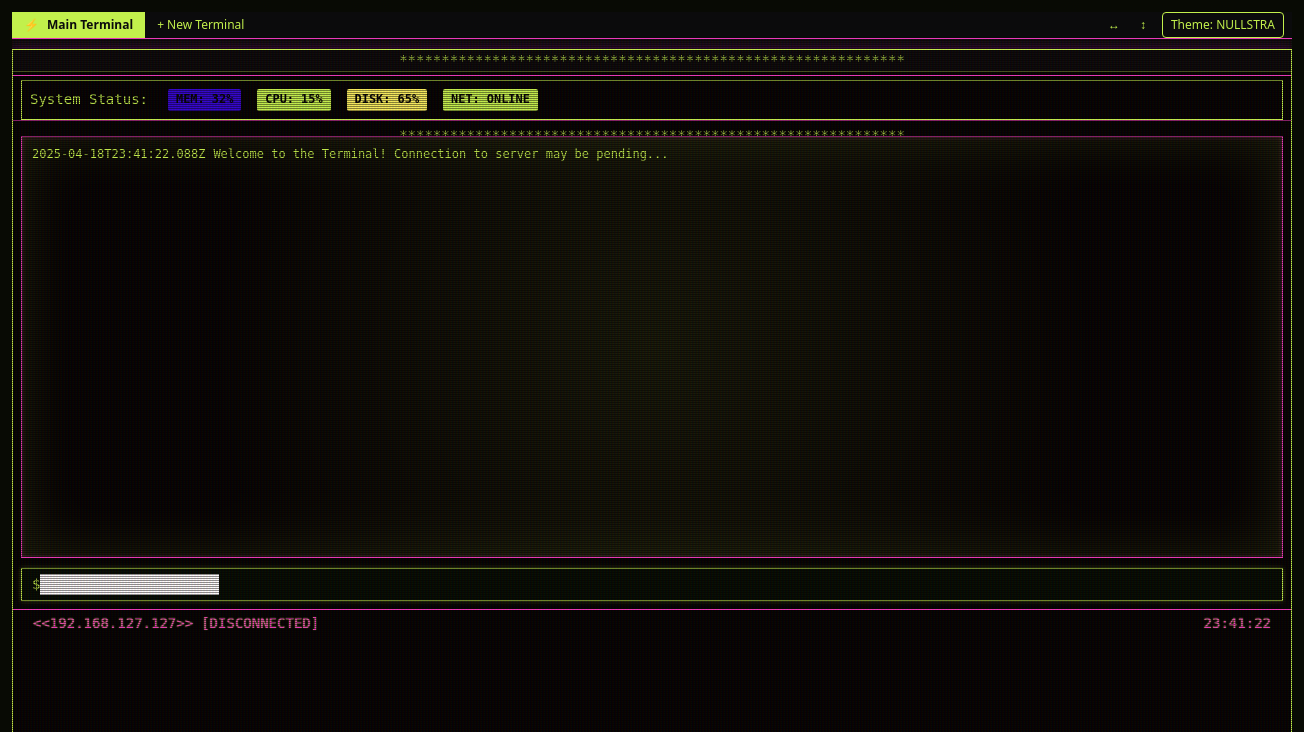
TerminalManager › Edge Cases › should not allow creating more sessions than maxSessions
This screenshot has width=1304, height=732.
Click the button "+ New Terminal": [201, 25] box [149, 12, 252, 38]
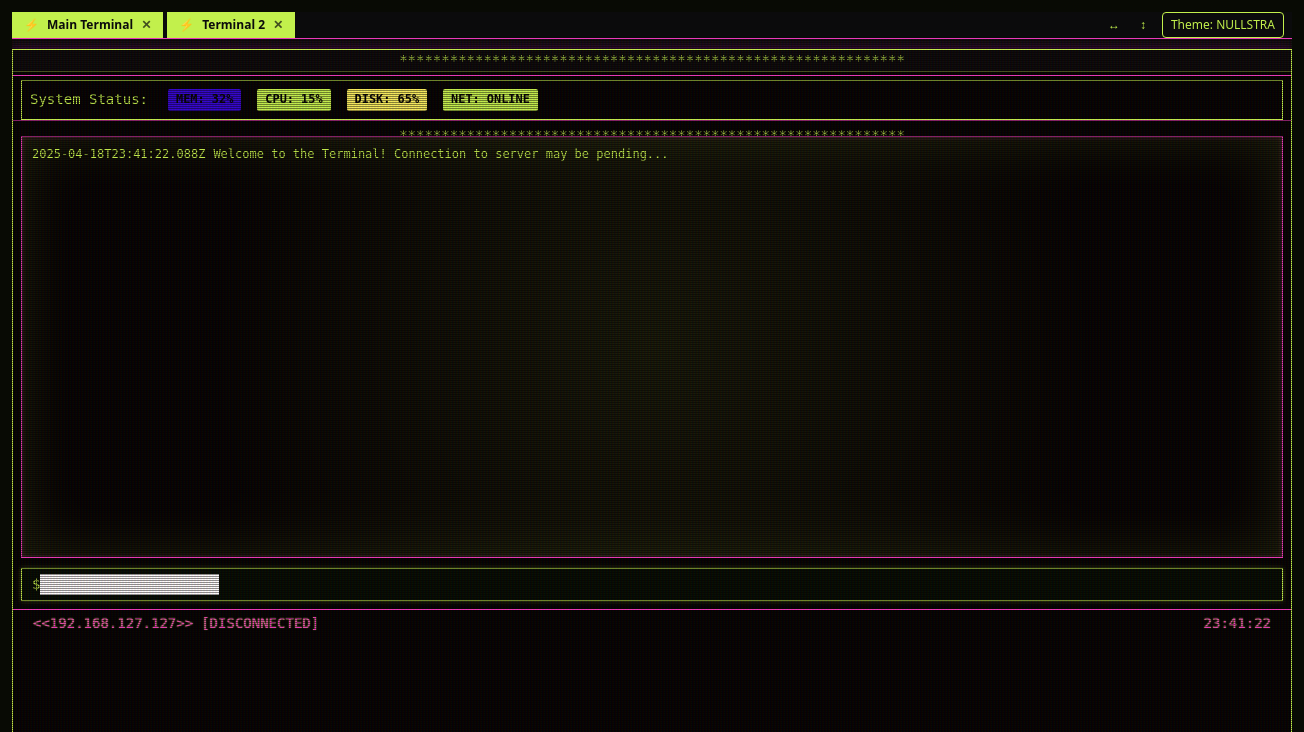
Check: the button "+ New Terminal" is gone
